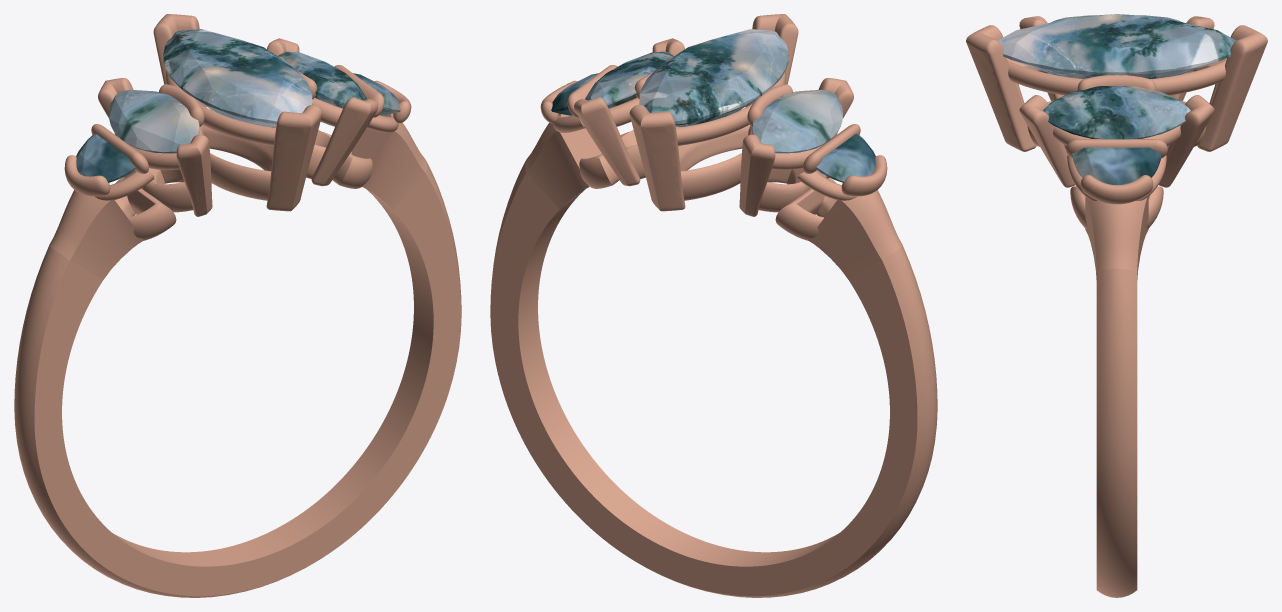
The model's file is CharlotteV_webgi.glb.
The picture shows the model from 3 angles, left to right: view 1: azimuth 30°, elevation 25°; view 2: azimuth 150°, elevation 25°; view 3: azimuth 270°, elevation 25°; orthographic projection. The views are drawn at different scales.
Parts seen in each view (by area): view 1: Charlotte_ROSE_gold_for_3d_model, Charlotte_moss_agates_for_3d_model002, Charlotte_moss_agates_for_3d_model004, Charlotte_moss_agates_for_3d_model001, Charlotte_moss_agates_for_3d_model003; view 2: Charlotte_ROSE_gold_for_3d_model, Charlotte_moss_agates_for_3d_model002, Charlotte_moss_agates_for_3d_model004, Charlotte_moss_agates_for_3d_model001, Charlotte_moss_agates_for_3d_model003; view 3: Charlotte_ROSE_gold_for_3d_model, Charlotte_moss_agates_for_3d_model002, Charlotte_moss_agates_for_3d_model001, Charlotte_moss_agates_for_3d_model.
Part boxes in pixels (box(x1,y1,x2,y2)): Charlotte_ROSE_gold_for_3d_model: box(14, 14, 461, 597); Charlotte_moss_agates_for_3d_model002: box(163, 29, 312, 126); Charlotte_moss_agates_for_3d_model004: box(109, 89, 199, 153); Charlotte_moss_agates_for_3d_model001: box(278, 51, 366, 108); Charlotte_moss_agates_for_3d_model003: box(76, 134, 136, 182); Charlotte_ROSE_gold_for_3d_model: box(490, 14, 937, 597); Charlotte_moss_agates_for_3d_model002: box(639, 29, 788, 126); Charlotte_moss_agates_for_3d_model004: box(752, 89, 842, 153); Charlotte_moss_agates_for_3d_model001: box(585, 51, 673, 108); Charlotte_moss_agates_for_3d_model003: box(815, 134, 875, 182); Charlotte_ROSE_gold_for_3d_model: box(966, 16, 1267, 597); Charlotte_moss_agates_for_3d_model002: box(997, 14, 1236, 78); Charlotte_moss_agates_for_3d_model001: box(1043, 86, 1190, 139); Charlotte_moss_agates_for_3d_model: box(1072, 147, 1161, 184).
Size of the model in its own units: 2.46 by 2.82 by 1.42.
2 materials, 1 textured.
